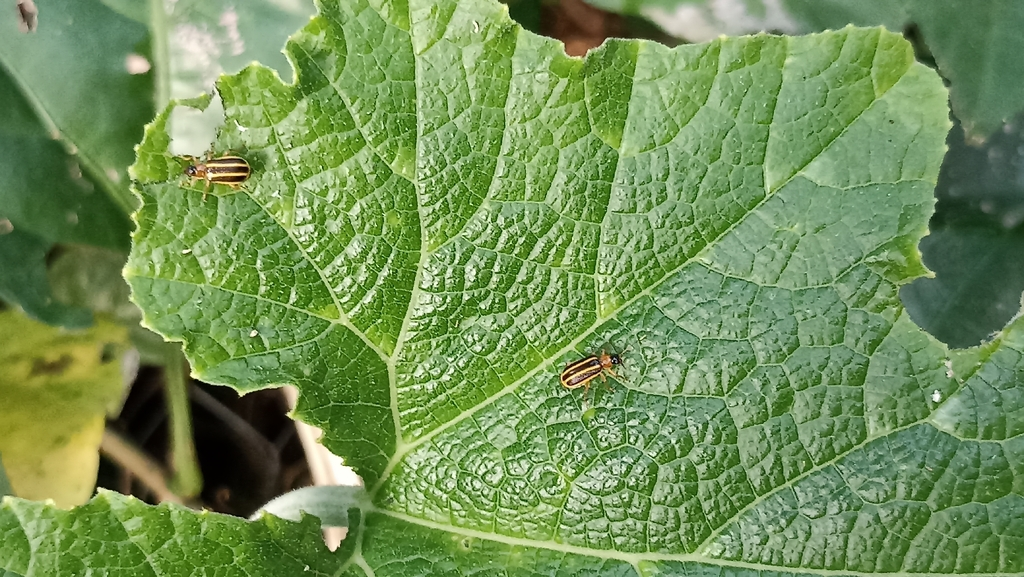potato_beetle: (137, 125, 280, 222), (538, 330, 644, 412)
